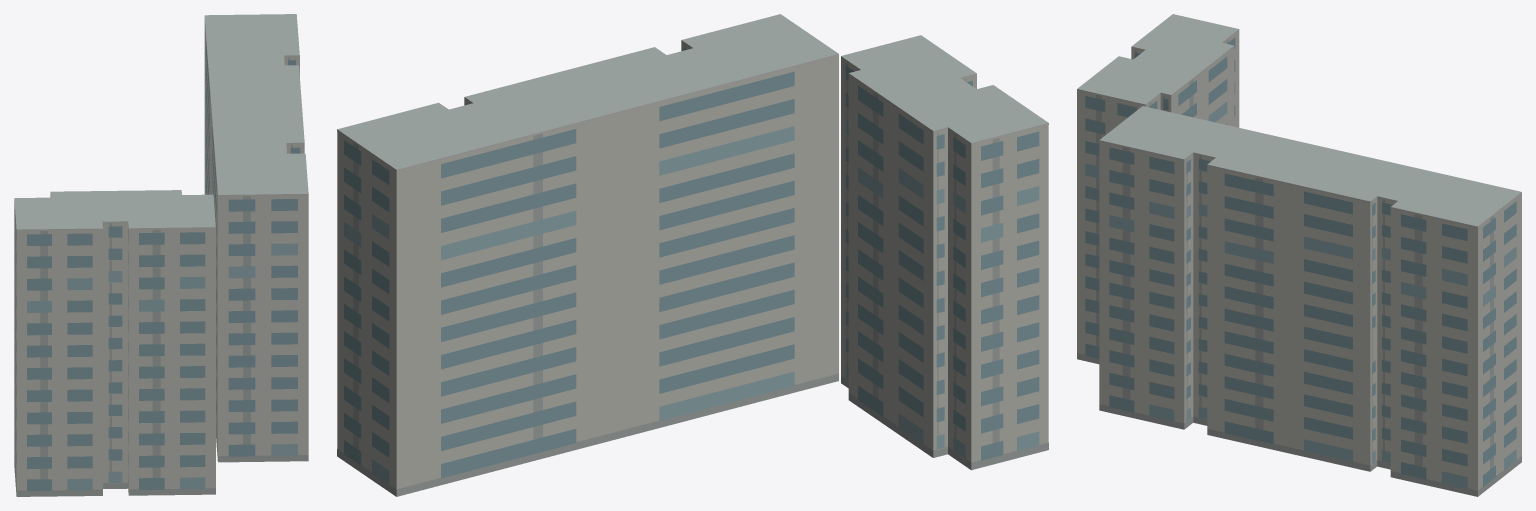
File: residential-bb0a7a01-10de-460d-b146-09b124510b7a.glb
The picture shows the model from 3 angles, left to right: view 1: azimuth 30°, elevation 25°; view 2: azimuth 150°, elevation 25°; view 3: azimuth 270°, elevation 25°; orthographic projection. The views are drawn at different scales.
Parts seen in each view (by area): view 1: residential-bb0a7a01-10de-460d-b146-09b124510b7a.tmp; view 2: residential-bb0a7a01-10de-460d-b146-09b124510b7a.tmp; view 3: residential-bb0a7a01-10de-460d-b146-09b124510b7a.tmp.
Part boxes in pixels (x1,y1,x2,y2): residential-bb0a7a01-10de-460d-b146-09b124510b7a.tmp: (14,14,308,496); residential-bb0a7a01-10de-460d-b146-09b124510b7a.tmp: (337,14,1048,496); residential-bb0a7a01-10de-460d-b146-09b124510b7a.tmp: (1077,14,1521,496).
Size of the model in its own units: 65.78 by 39 by 58.18.
